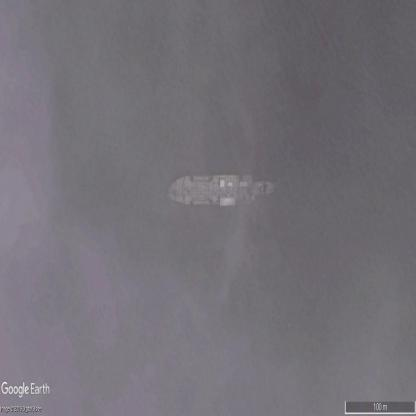ship: (167, 174, 275, 207)
